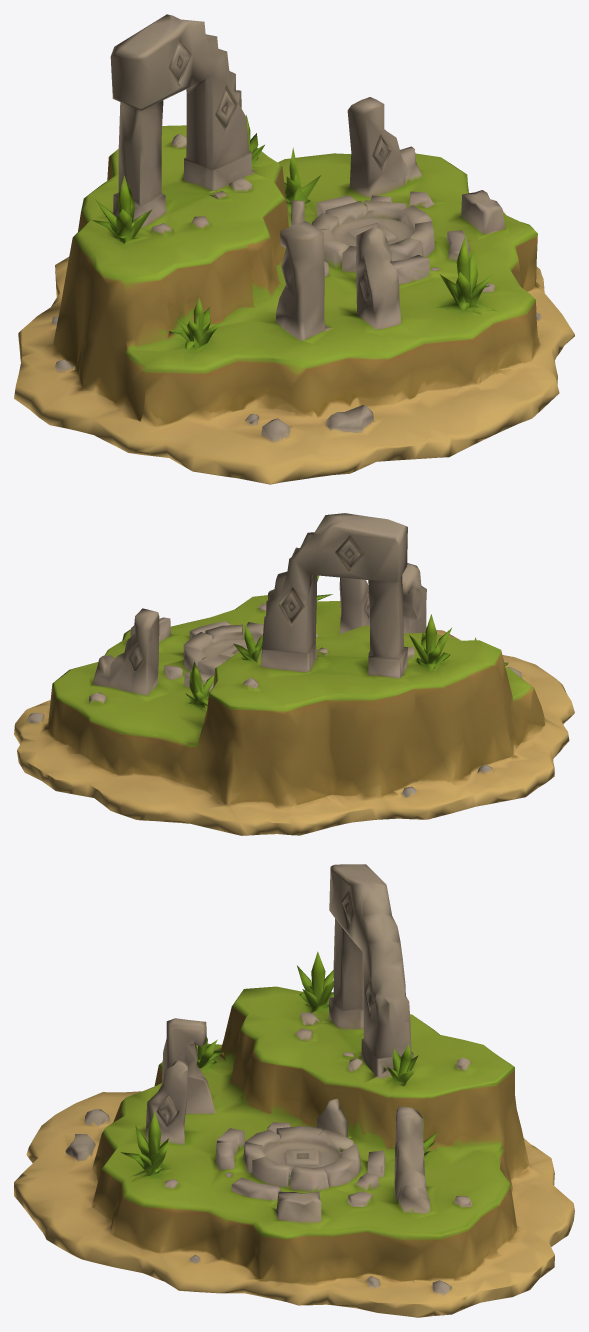
The model's file is island09.glb.
3 renders of one model, top to bottom at view 1: azimuth 30°, elevation 25°; view 2: azimuth 150°, elevation 25°; view 3: azimuth 270°, elevation 25°, orthographic. The views are drawn at different scales.
Parts seen in each view (by area): view 1: tripo_node_a2d7ddc7-d8e6-46b1-901c-c49d9f456ea5; view 2: tripo_node_a2d7ddc7-d8e6-46b1-901c-c49d9f456ea5; view 3: tripo_node_a2d7ddc7-d8e6-46b1-901c-c49d9f456ea5.
Part boxes in pixels (<box>): tripo_node_a2d7ddc7-d8e6-46b1-901c-c49d9f456ea5: <box>14,14,574,484</box>; tripo_node_a2d7ddc7-d8e6-46b1-901c-c49d9f456ea5: <box>14,513,574,835</box>; tripo_node_a2d7ddc7-d8e6-46b1-901c-c49d9f456ea5: <box>14,864,574,1317</box>.
Size of the model in its own units: 0.9795 by 0.5403 by 0.9668.
Materials: 1 (1 with a texture image).
